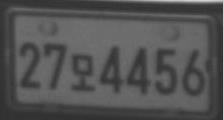2: (18, 41, 41, 89)
4: (98, 45, 125, 93), (126, 47, 152, 95)
5: (153, 47, 178, 95)
6: (181, 48, 206, 96)
7: (42, 42, 67, 90)
모: (70, 54, 96, 92)
